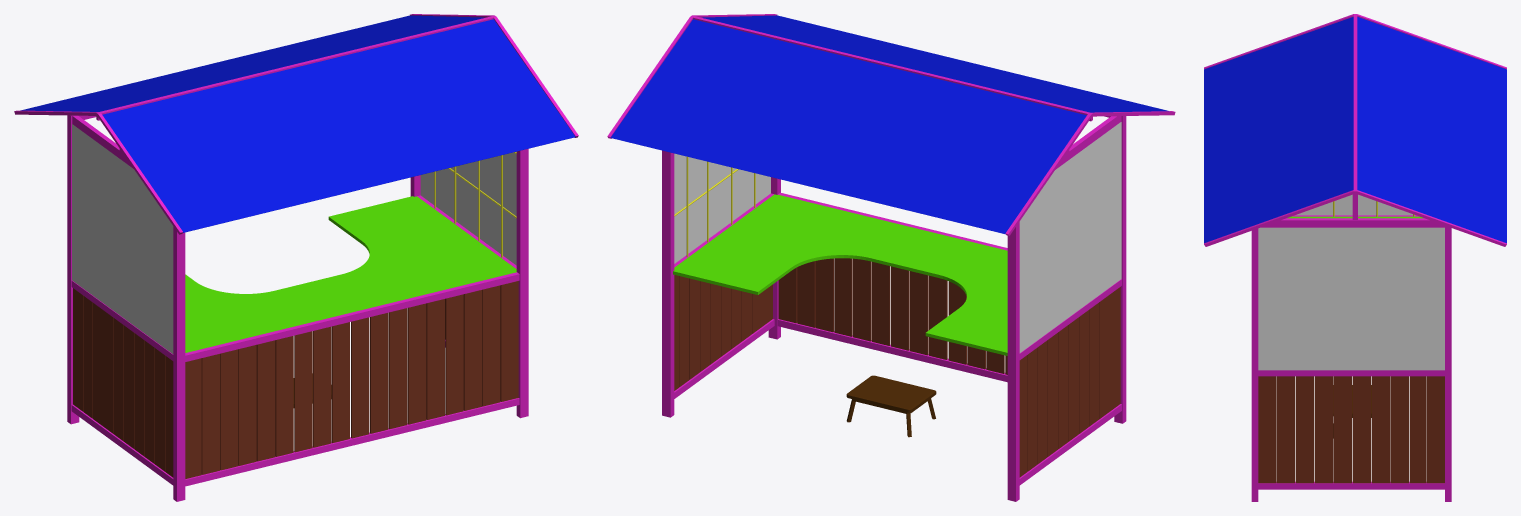
The model's file is Yatai and Stool v2.fbx.
3 views of the same model, side by side, from view 1: azimuth 30°, elevation 25°; view 2: azimuth 150°, elevation 25°; view 3: azimuth 270°, elevation 25° (orthographic). The views are drawn at different scales.
Parts seen in each view (by area): view 1: Yatai.001; view 2: Yatai.001, Cube; view 3: Yatai.001.
Part boxes in pixels (x1,y1,x2,y2): Yatai.001: (14,14,578,501); Yatai.001: (607,14,1175,501); Cube: (846,375,936,437); Yatai.001: (1204,14,1506,501).
Bounding box in the file's own units: 260 × 220 × 188.
